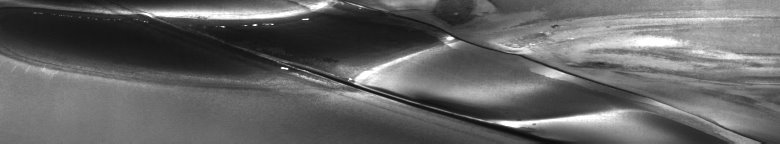ke: (5, 4, 776, 136)
